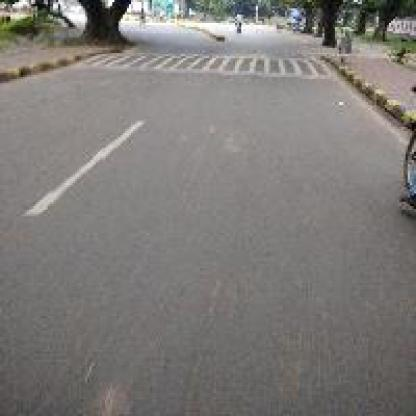Speed Bump: (62, 50, 335, 81)
